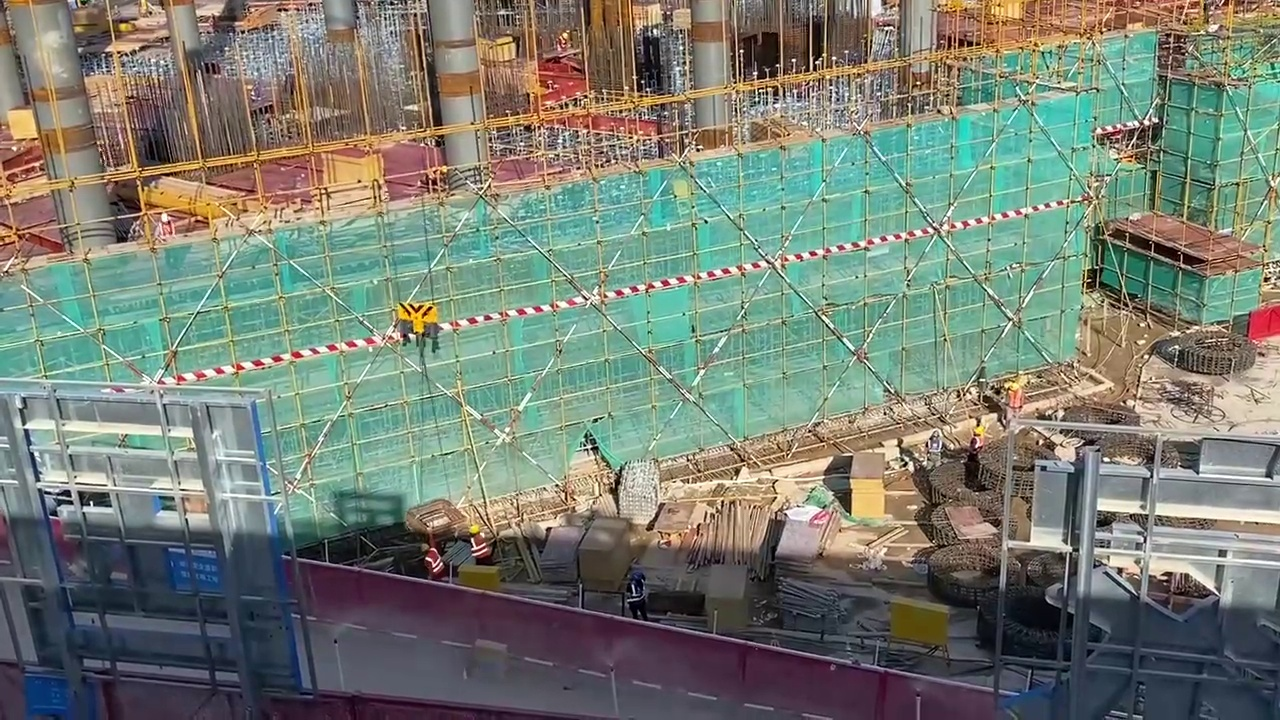board: (849, 452, 888, 516)
fence: (3, 658, 559, 720)
hook: (398, 302, 439, 338)
person: (622, 566, 650, 626), (415, 542, 448, 580), (466, 520, 492, 563)
vest: (423, 548, 442, 574), (470, 535, 486, 558)
wood: (693, 496, 771, 571)
